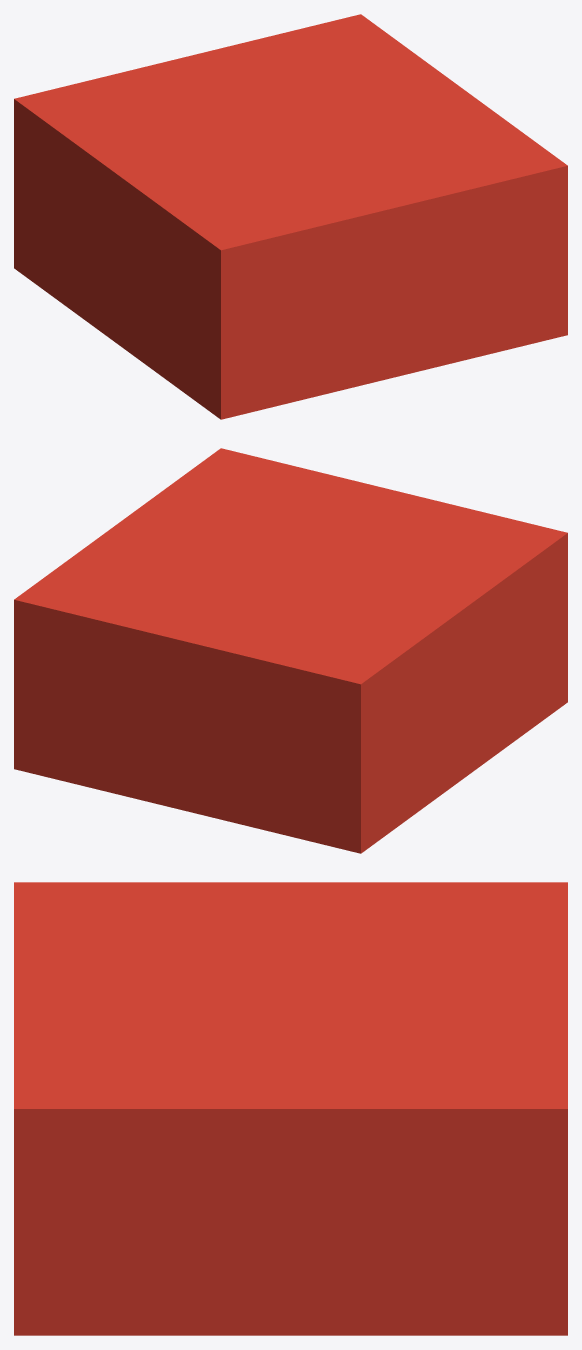
File: PruebaSquareRed.glb
3 views of the same model, one above another, from view 1: azimuth 30°, elevation 25°; view 2: azimuth 150°, elevation 25°; view 3: azimuth 270°, elevation 25° (orthographic). The views are drawn at different scales.
Visible parts, largest first — view 1: Cube.002; view 2: Cube.002; view 3: Cube.002.
Part boxes in pixels (box(x1,y1,x2,y2)): Cube.002: box(14, 14, 567, 419); Cube.002: box(14, 448, 567, 853); Cube.002: box(14, 882, 567, 1335).
Bounding box in the file's own units: 60 × 28 × 62.
